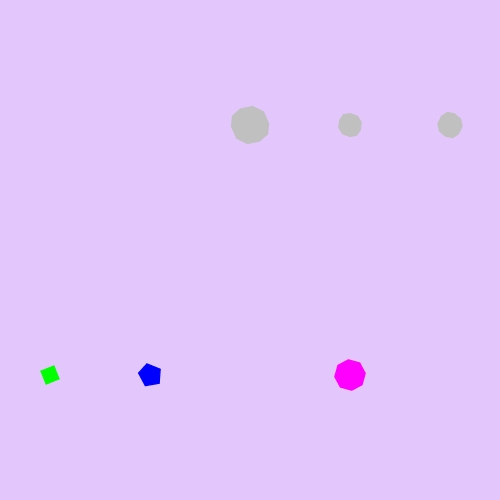decagon: (226, 103, 274, 147), (433, 109, 468, 142), (333, 110, 367, 141)
octagon: (330, 355, 370, 395)
pentagon: (134, 359, 166, 391)
quadrilateral: (35, 360, 65, 390)
